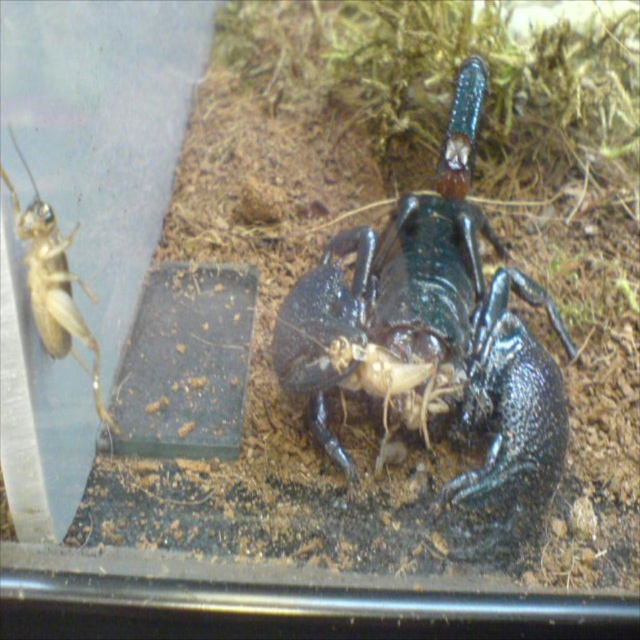Scorpion: (272, 54, 578, 564)
